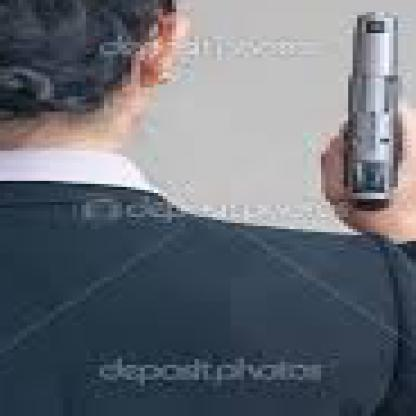gun: (298, 0, 412, 238)
